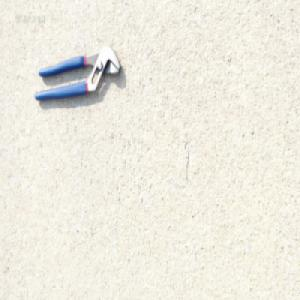Pliers: (33, 42, 122, 100)
